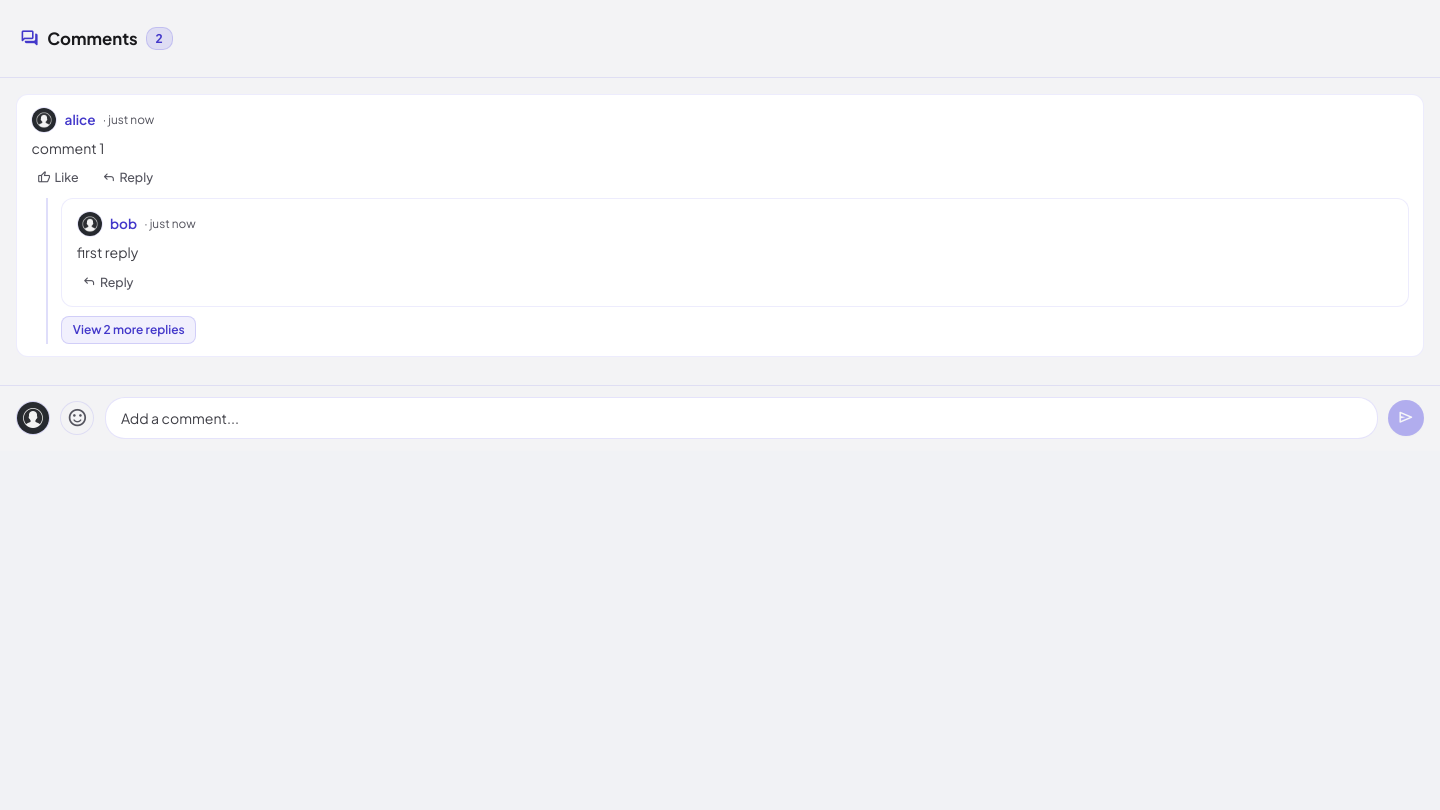
Test: PostCommentsPanel › shows the reply preview and a 'View N more replies' button that loads the rest
The width and height of the screenshot is (1440, 810).
expect the text "first reply" is shown: met, box [77,243,138,261]
Click the button "View 2 more replies" at [129, 330], box [61,316,196,344]
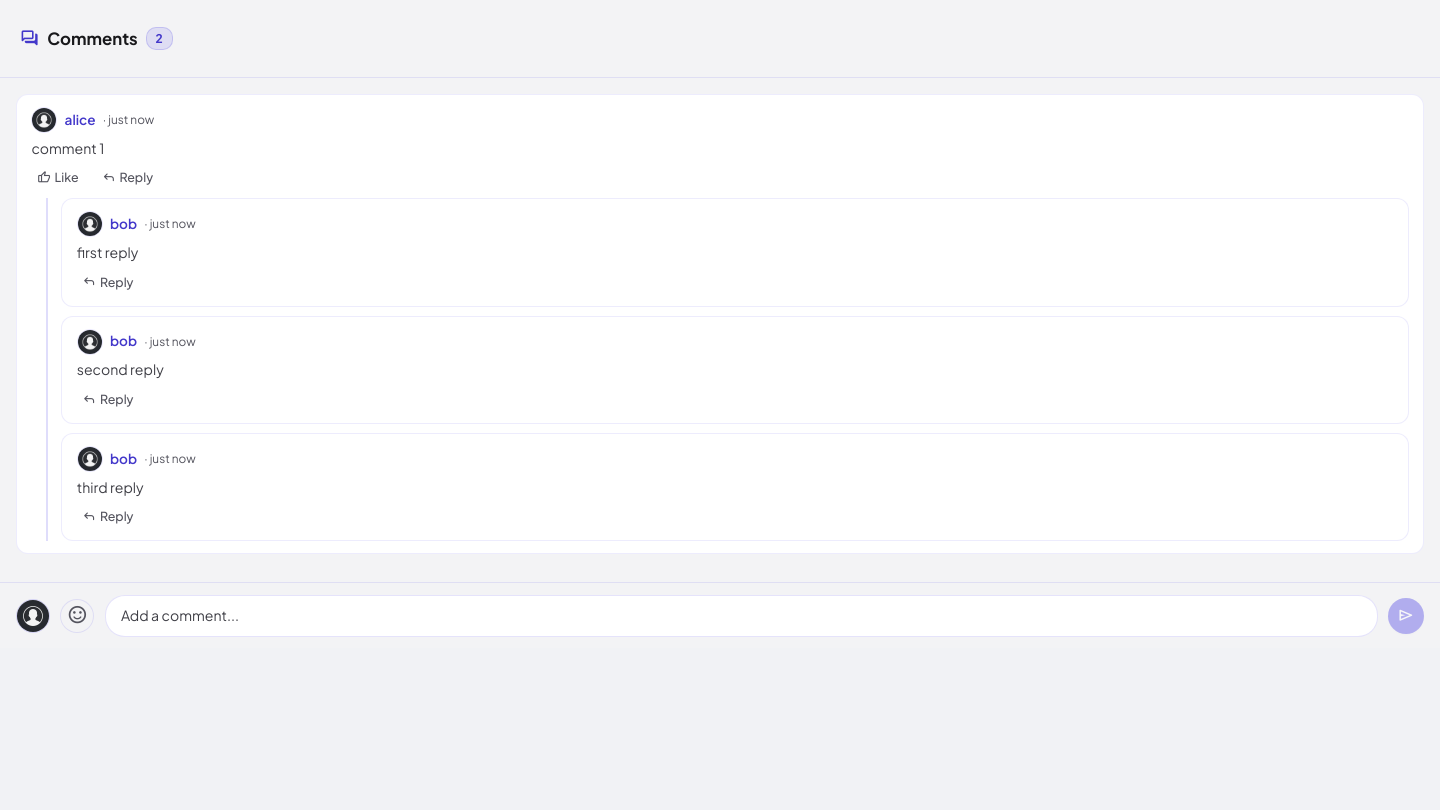
expect the text "third reply" is shown: met, box [77,478,144,496]
expect the button "more repl" is gone: met
